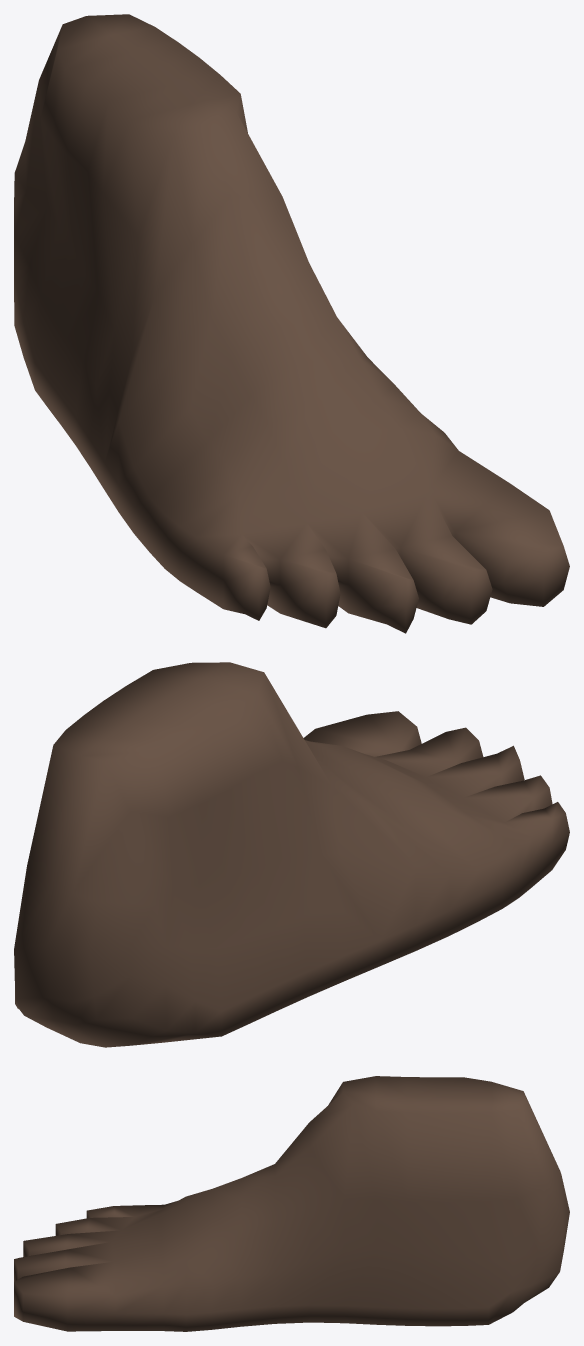
File: RightFoot.glb
The picture shows the model from 3 angles, top to bottom: view 1: azimuth 30°, elevation 25°; view 2: azimuth 150°, elevation 25°; view 3: azimuth 270°, elevation 25°; orthographic projection. The views are drawn at different scales.
Parts seen in each view (by area): view 1: Plane.002; view 2: Plane.002; view 3: Plane.002.
Boxes of the visible parts, x1,y1,x2,y2 form: Plane.002: (14,14,569,633); Plane.002: (14,662,569,1047); Plane.002: (14,1076,569,1331).
Bounding box in the file's own units: 0.0911 × 0.0925 × 0.2322.
